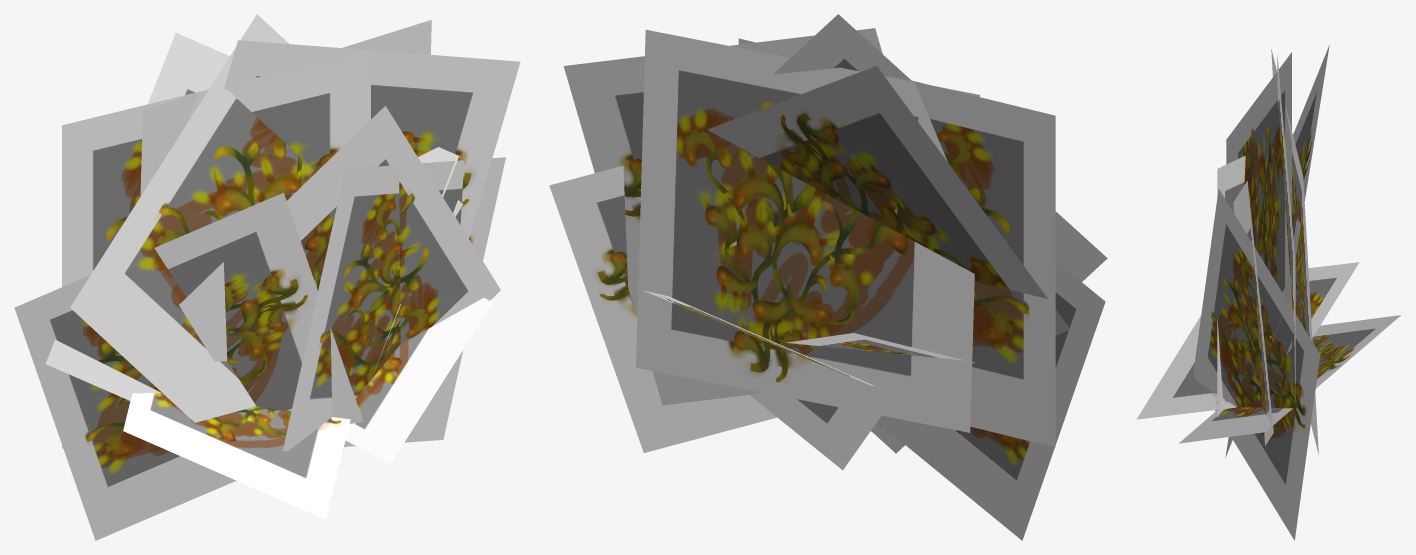
Rendered from plante-destructible.fbx.
3 views of the same model, side by side, from view 1: azimuth 30°, elevation 25°; view 2: azimuth 150°, elevation 25°; view 3: azimuth 270°, elevation 25° (orthographic). The views are drawn at different scales.
Visible parts, largest first — view 1: pCube9, pCube4, pCube8, pCube3, pCube7, pCube5, pCube11, pCube12, pCube10, pCube6; view 2: pCube6, pCube3, pCube10, pCube8, pCube9, pCube5, pCube4, pCube7, pCube11, pCube12; view 3: pCube8, pCube4, pCube11, pCube12, pCube6, pCube10, pCube7, pCube9, pCube5.
Boxes of the visible parts, x1=… form: pCube9: x1=14, y1=192, x2=363, y2=540; pCube4: x1=70, y1=14, x2=463, y2=422; pCube8: x1=282, y1=157, x2=505, y2=451; pCube3: x1=62, y1=50, x2=370, y2=448; pCube7: x1=179, y1=106, x2=500, y2=361; pCube5: x1=224, y1=40, x2=520, y2=238; pCube11: x1=123, y1=393, x2=350, y2=519; pCube12: x1=345, y1=298, x2=492, y2=464; pCube10: x1=45, y1=33, x2=459, y2=452; pCube6: x1=140, y1=20, x2=431, y2=195; pCube6: x1=636, y1=29, x2=979, y2=432; pCube3: x1=738, y1=38, x2=1055, y2=447; pCube10: x1=707, y1=66, x2=1070, y2=431; pCube8: x1=549, y1=165, x2=776, y2=452; pCube9: x1=877, y1=261, x2=1105, y2=540; pCube5: x1=563, y1=28, x2=882, y2=405; pCube4: x1=773, y1=14, x2=1107, y2=453; pCube7: x1=750, y1=393, x2=880, y2=470; pCube11: x1=786, y1=333, x2=974, y2=362; pCube12: x1=643, y1=290, x2=875, y2=386; pCube8: x1=1193, y1=188, x2=1320, y2=540; pCube4: x1=1226, y1=52, x2=1291, y2=355; pCube11: x1=1136, y1=262, x2=1359, y2=419; pCube12: x1=1179, y1=315, x2=1400, y2=443; pCube6: x1=1271, y1=49, x2=1318, y2=455; pCube10: x1=1225, y1=45, x2=1329, y2=457; pCube7: x1=1233, y1=180, x2=1273, y2=445; pCube9: x1=1217, y1=155, x2=1245, y2=417; pCube5: x1=1277, y1=55, x2=1295, y2=401.
Bounding box in the file's own units: 253 × 224 × 130.
